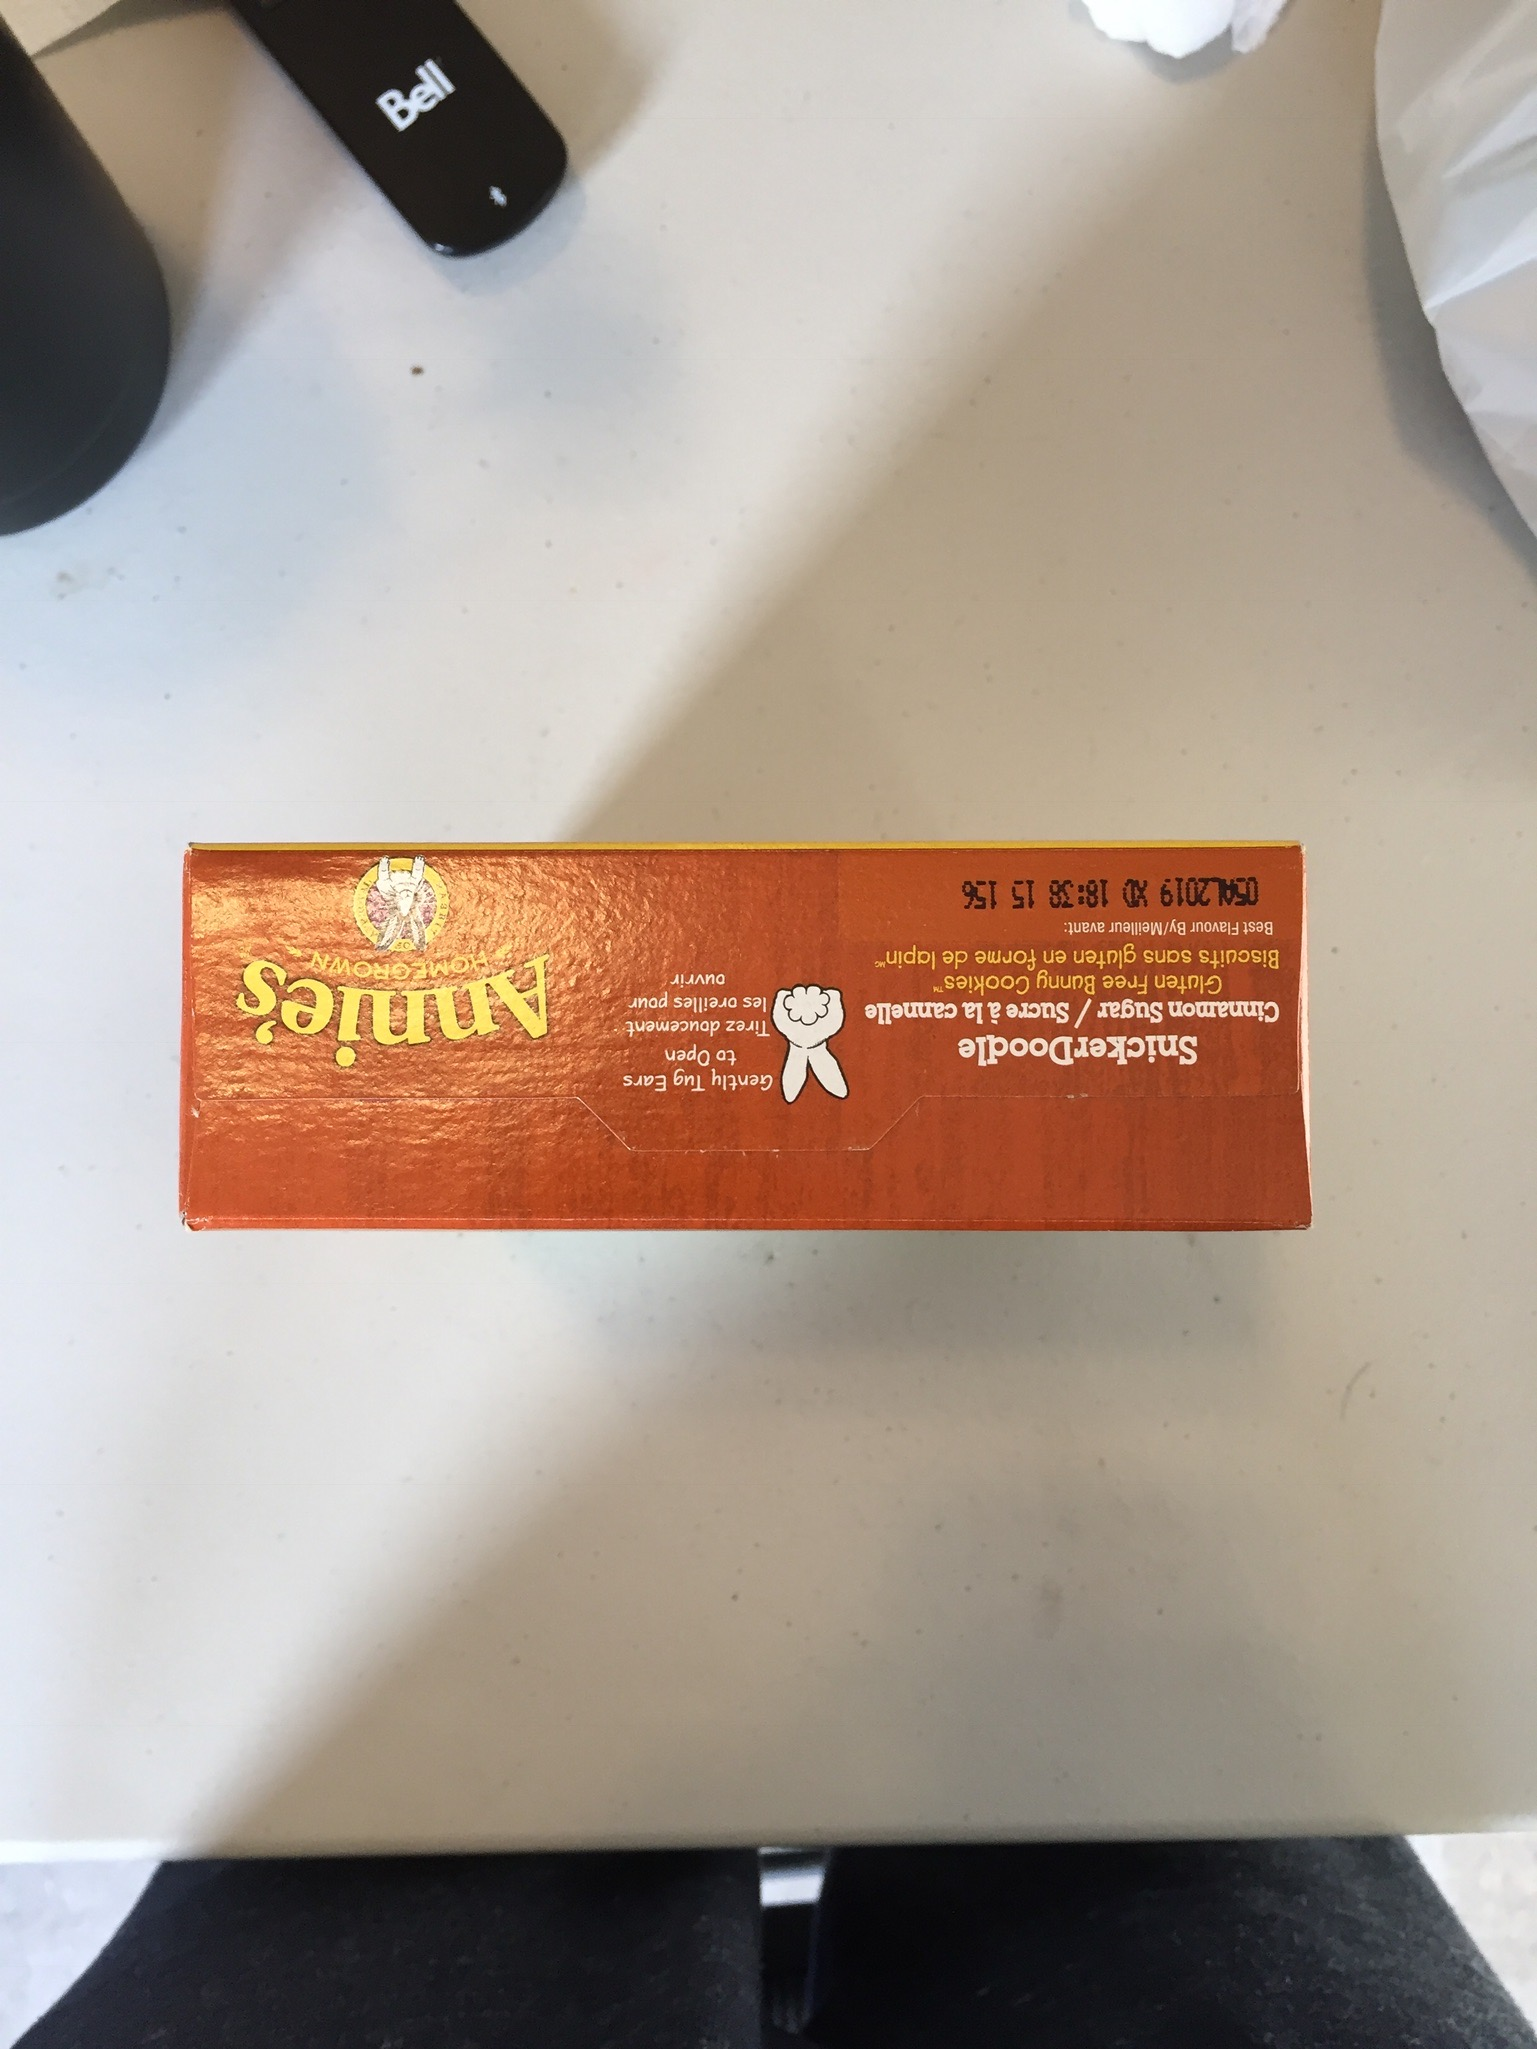annies_snickerdoodles_cinnamon_sugar: (192, 854, 1290, 1216)
